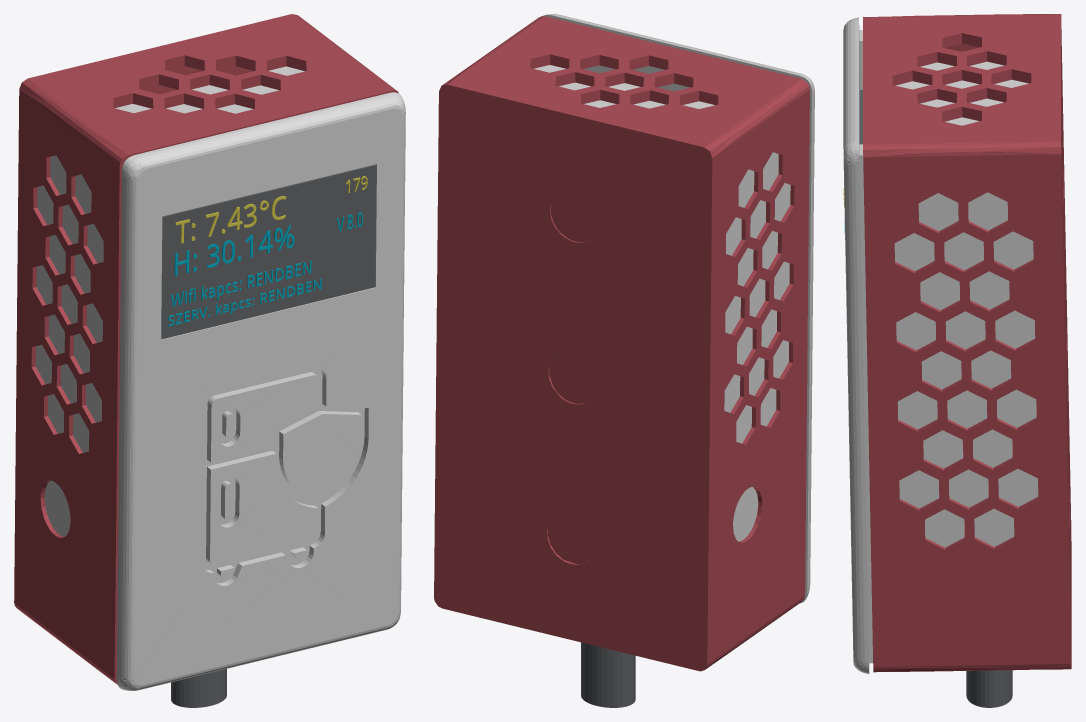
Rendered from piros_feher.glb.
3 views of the same model, side by side, from view 1: azimuth 30°, elevation 25°; view 2: azimuth 150°, elevation 25°; view 3: azimuth 270°, elevation 25° (orthographic). The views are drawn at different scales.
Visible parts, largest first — view 1: Mesh_Mesh_head_geo.001_lambert2SG.001; view 2: Mesh_Mesh_head_geo.001_lambert2SG.001; view 3: Mesh_Mesh_head_geo.001_lambert2SG.001.
Part boxes in pixels (x1,y1,x2,y2): Mesh_Mesh_head_geo.001_lambert2SG.001: (14,14,405,707); Mesh_Mesh_head_geo.001_lambert2SG.001: (434,14,814,707); Mesh_Mesh_head_geo.001_lambert2SG.001: (843,14,1071,707).
Bounding box in the file's own units: 33 × 70.15 × 23.52.
